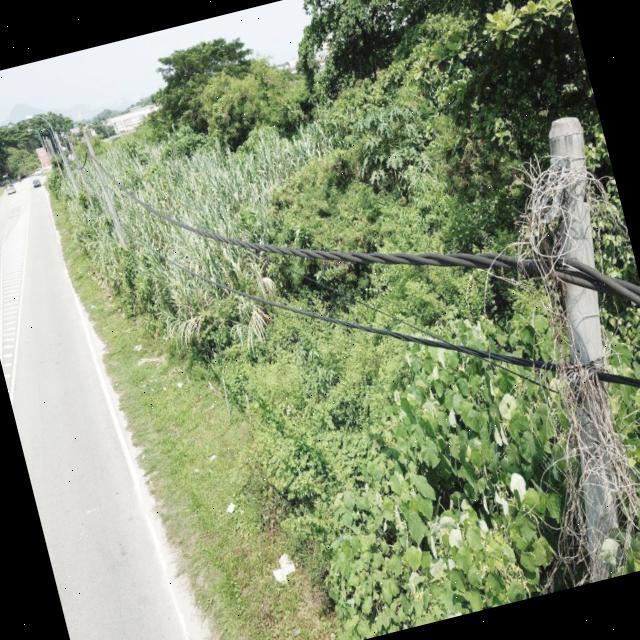critical vegetation: (457, 132, 640, 581)
